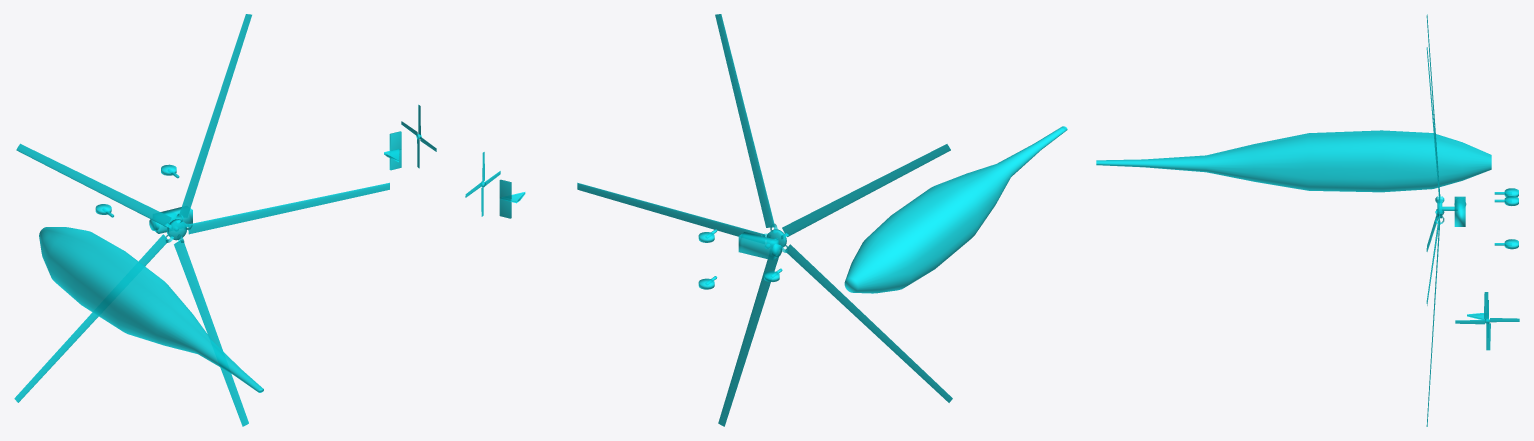
The model's file is uh169b_hologram.glb.
3 renders of one model, left to right at view 1: azimuth 30°, elevation 25°; view 2: azimuth 150°, elevation 25°; view 3: azimuth 270°, elevation 25°, orthographic. The views are drawn at different scales.
Bounding box in the file's own units: 12.78 × 11.47 × 11.56.
